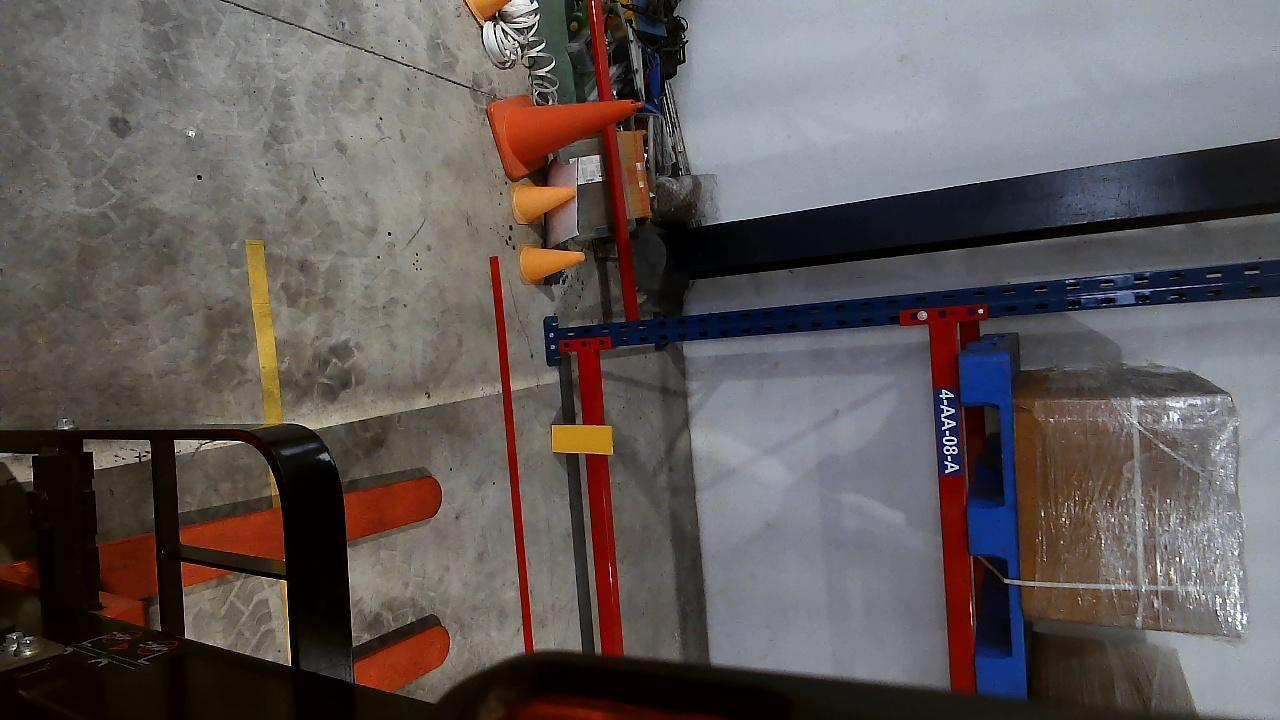red_line: (492, 257, 535, 656)
yellow_line: (244, 239, 283, 424)
